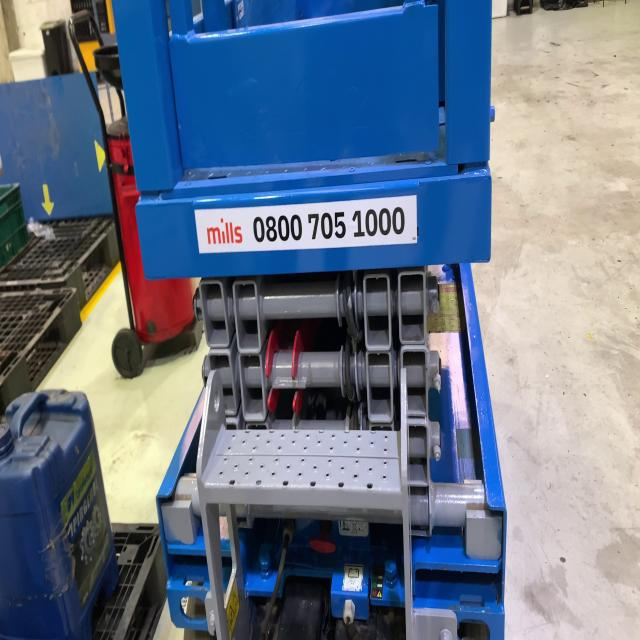Adesivo Longo: (194, 192, 419, 258)
